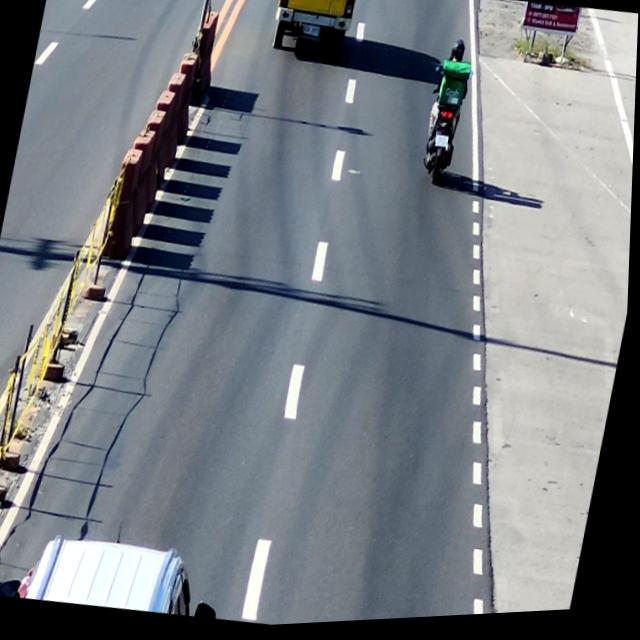Car: (0, 522, 235, 631), (267, 0, 360, 73)
License-Plate: (432, 136, 454, 158), (300, 26, 323, 41)
Motorcycle: (415, 67, 474, 199)
